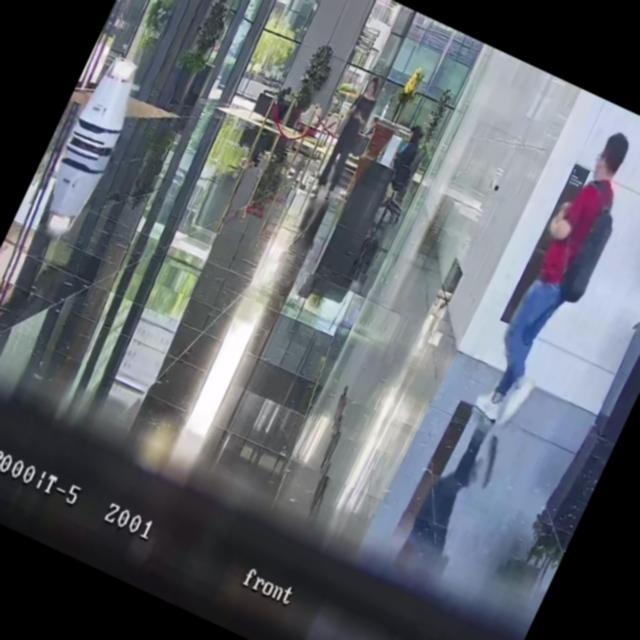person: (468, 121, 640, 422), (309, 72, 388, 204), (384, 122, 428, 192), (262, 81, 298, 125)
